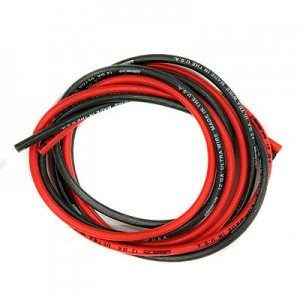Nonrec_Tangler: (12, 51, 275, 257)
